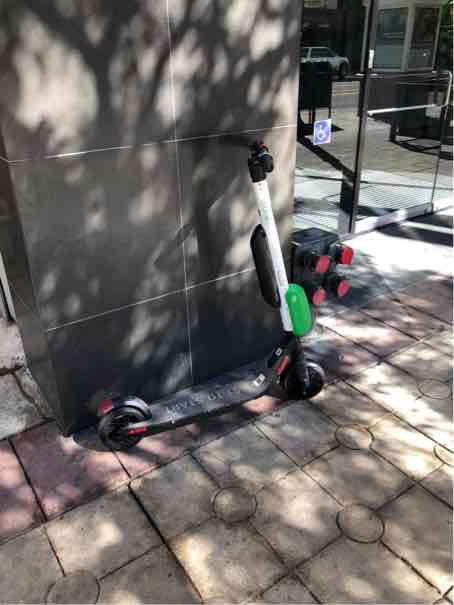scooter: (87, 131, 331, 452)
